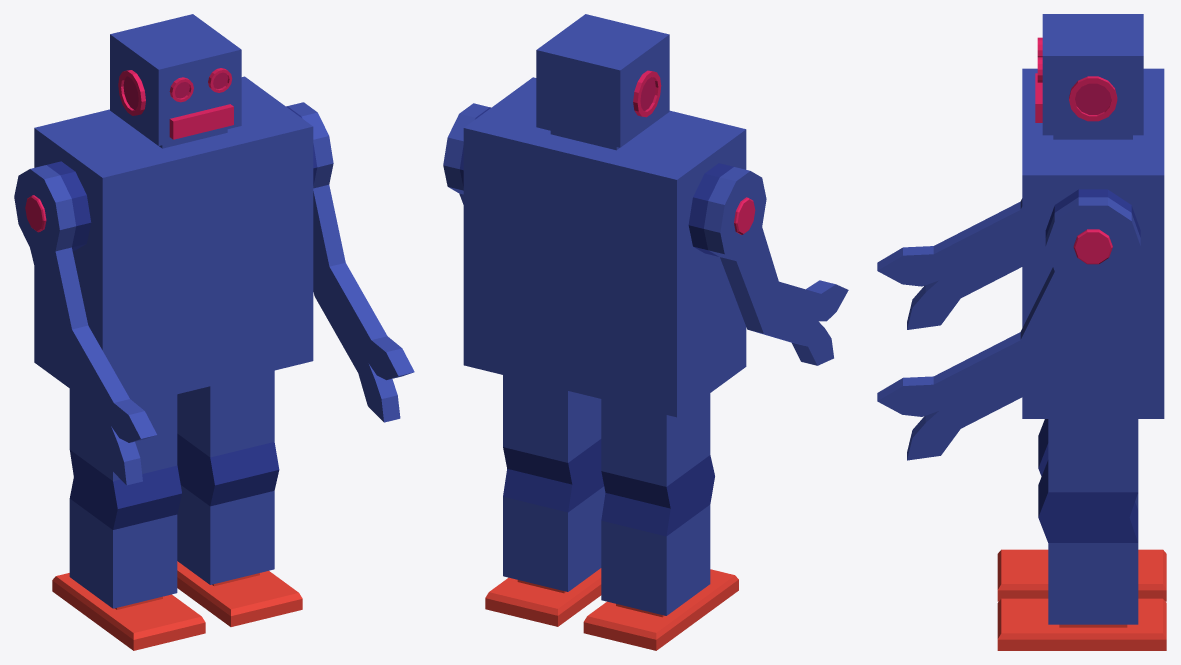
The model's file is Robot.fbx.
3 views of the same model, side by side, from view 1: azimuth 30°, elevation 25°; view 2: azimuth 150°, elevation 25°; view 3: azimuth 270°, elevation 25° (orthographic). The views are drawn at different scales.
Visible parts, largest first — view 1: Robot; view 2: Robot; view 3: Robot.
Boxes of the visible parts, x1,y1,x2,y2 form: Robot: (14, 14, 414, 650); Robot: (443, 14, 848, 650); Robot: (877, 14, 1166, 650).
Size of the model in its own units: 11.28 by 21.35 by 9.75.
1 material, 1 textured.
